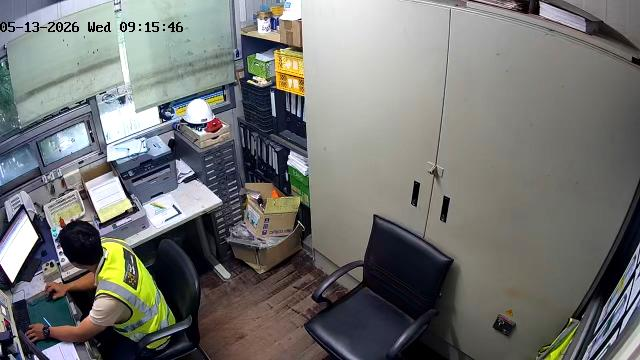Head: (58, 221, 103, 271)
People: (26, 221, 175, 359)
